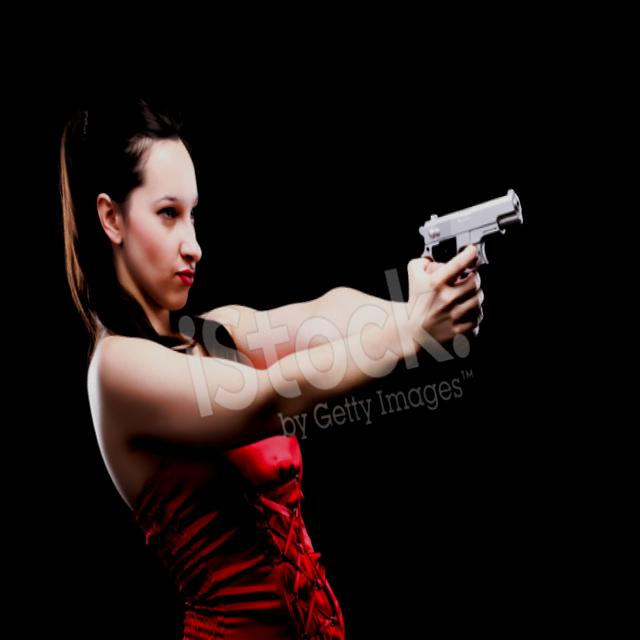handgun: (410, 180, 536, 294)
